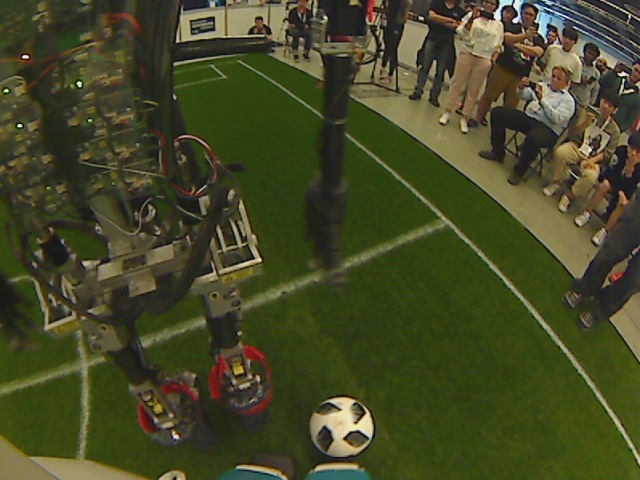ball: (307, 393, 376, 460)
